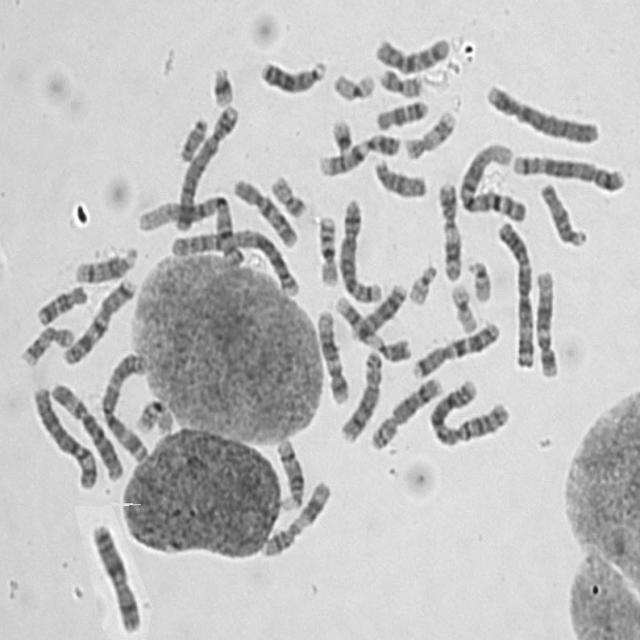A1: (132, 187, 248, 269), (453, 136, 530, 224)
A2: (166, 221, 302, 299), (424, 373, 512, 448)
A3: (492, 214, 536, 370), (96, 344, 150, 464)
B4: (168, 97, 241, 234), (480, 76, 601, 146)
B5: (507, 146, 627, 194), (334, 192, 384, 304)
C10: (228, 170, 301, 249), (369, 29, 453, 76)
C11: (255, 472, 333, 560), (433, 176, 463, 282)
C12: (312, 302, 351, 406), (530, 264, 561, 379)
C6: (44, 375, 126, 483), (27, 379, 101, 491)
C7: (58, 270, 138, 366), (407, 314, 502, 379)
C8: (363, 368, 445, 452), (334, 344, 384, 444)
C9: (329, 290, 414, 364), (314, 126, 403, 178)
D13: (346, 276, 408, 344), (254, 51, 327, 95)
D14: (70, 240, 140, 284), (271, 432, 306, 512)
D15: (535, 177, 590, 249), (368, 151, 429, 200)
E16: (312, 209, 341, 287), (130, 393, 174, 435)
E17: (399, 103, 458, 161), (15, 318, 76, 369)
E18: (31, 278, 88, 327), (370, 93, 430, 131)
F19: (446, 276, 480, 334), (327, 65, 378, 103)
F20: (265, 168, 308, 219), (374, 61, 425, 98)
G21: (206, 59, 236, 108), (325, 112, 355, 156)
G22: (402, 257, 440, 306), (463, 253, 494, 304)
X: (84, 517, 144, 634)
Y: (175, 110, 210, 164)
